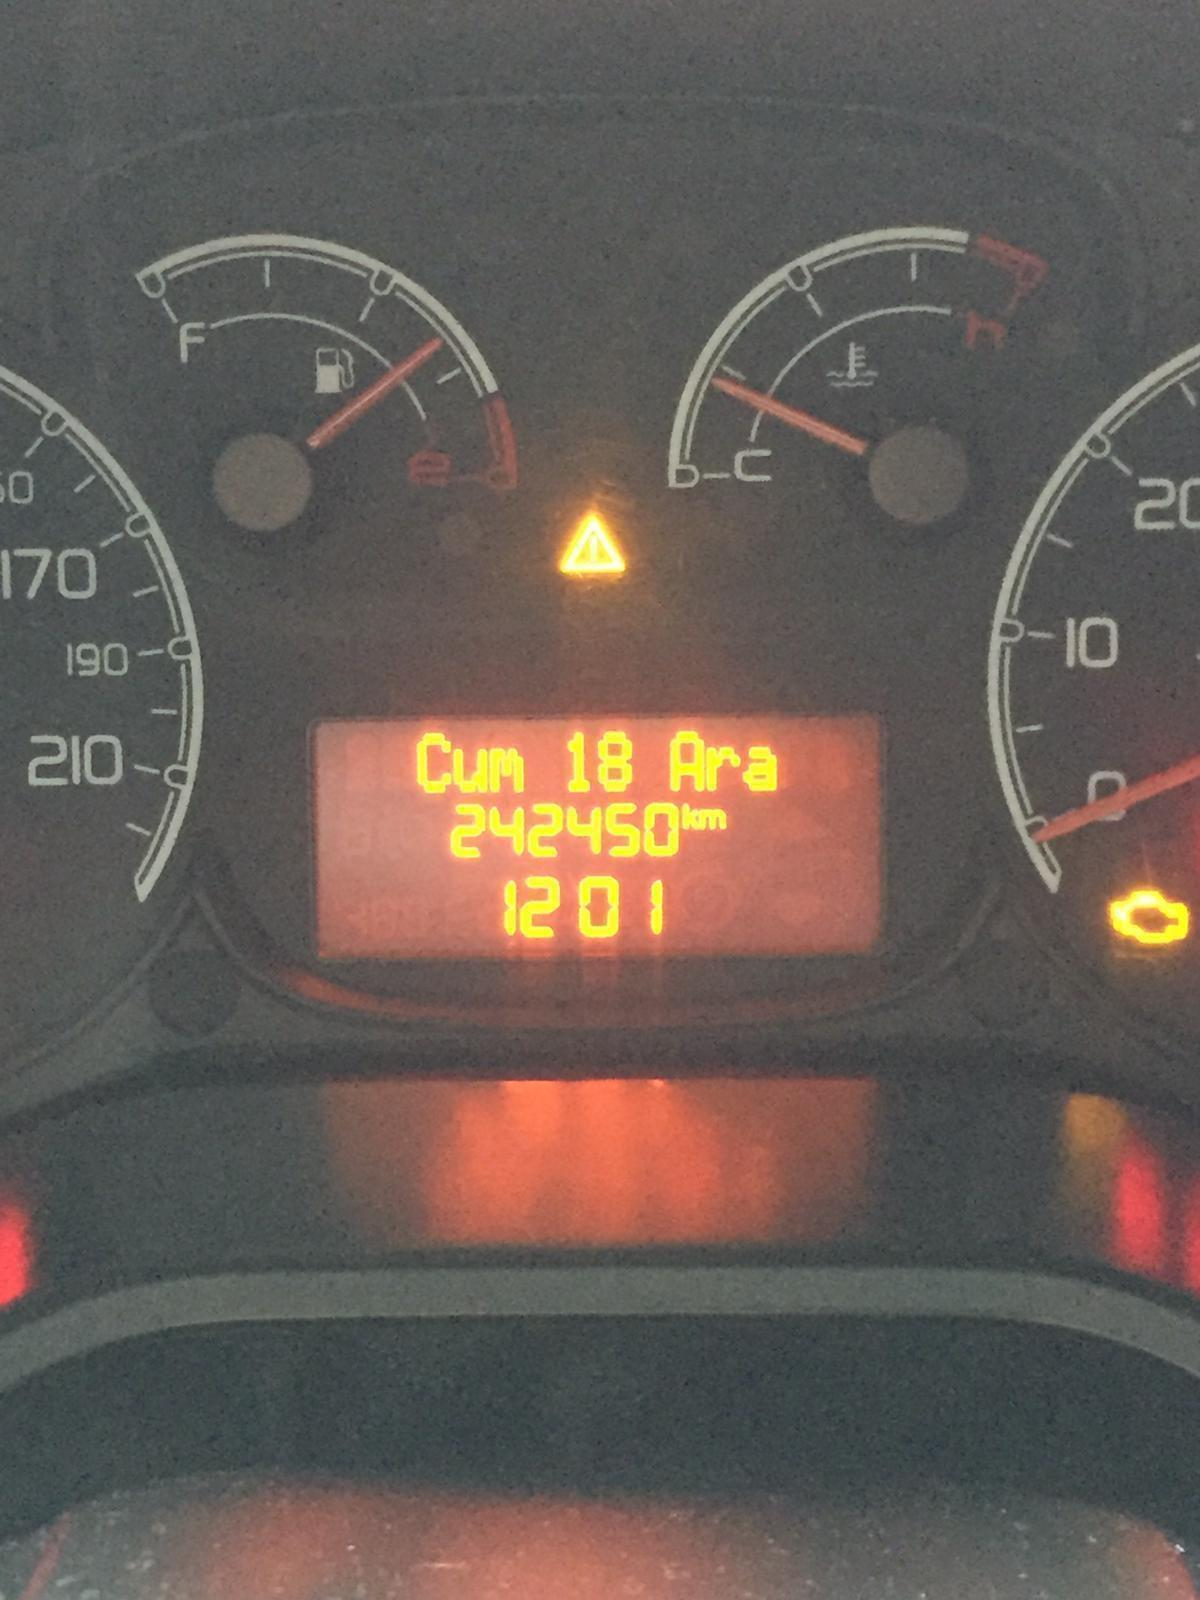0: (572, 871, 624, 941), (642, 799, 679, 859)
1: (561, 727, 592, 795), (642, 872, 671, 939), (493, 872, 519, 939)
2: (519, 872, 563, 942), (445, 801, 487, 860), (524, 800, 563, 860)
4: (563, 801, 603, 857), (487, 803, 524, 859)
5: (603, 799, 639, 860)
8: (594, 727, 635, 795)
X: (663, 727, 705, 795), (413, 727, 453, 799), (488, 745, 528, 797), (742, 742, 780, 795), (705, 741, 740, 795), (453, 743, 487, 797), (696, 806, 727, 831), (679, 800, 696, 833)
odometer: (300, 706, 899, 975)
